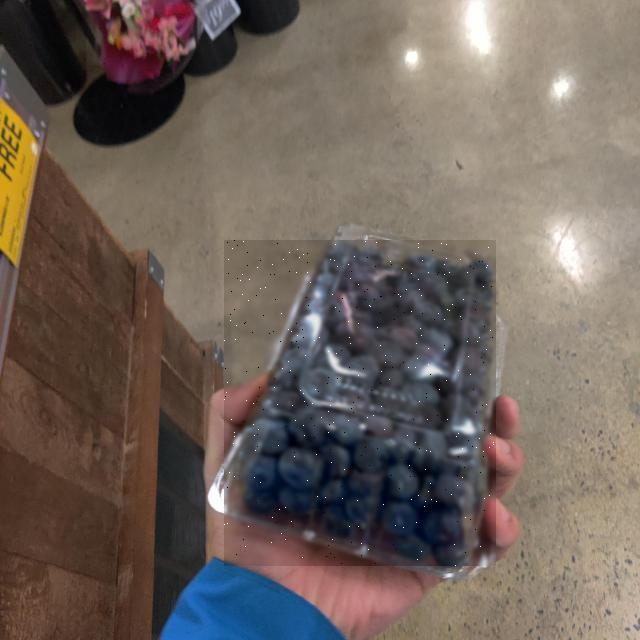Blue Berries: (224, 240, 496, 566)
